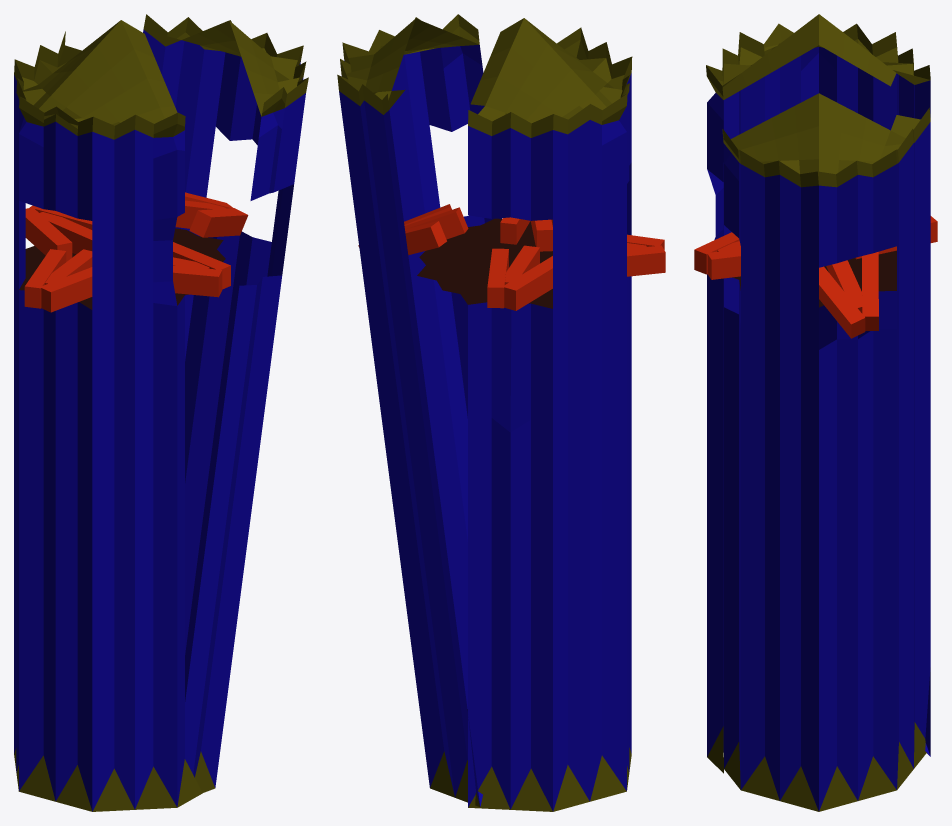
Rendered from ballistictower1d.obj.
The picture shows the model from 3 angles, left to right: view 1: azimuth 30°, elevation 25°; view 2: azimuth 150°, elevation 25°; view 3: azimuth 270°, elevation 25°; orthographic projection.
Parts seen in each view (by area): view 1: Cube, Cube.013, Cube.011, Cube.001, Cube.007, Cube.005, Cube.010, Cube.006, Cube.008, Cube.012, Cube.003; view 2: Cube, Cube.013, Cube.005, Cube.010, Cube.004, Cube.002, Cube.003, Cube.006, Cube.008, Cube.009; view 3: Cube.013, Cube, Cube.001, Cube.002, Cube.008, Cube.003, Cube.007.
Boxes of the visible parts, x1,y1,x2,y2 form: Cube: (14,20,225,811); Cube.013: (143,14,308,792); Cube.011: (41,267,92,312); Cube.001: (189,208,248,237); Cube.007: (173,265,222,297); Cube.005: (25,207,72,261); Cube.010: (24,249,66,308); Cube.006: (39,212,92,254); Cube.008: (173,242,230,289); Cube.012: (45,249,92,284); Cube.003: (175,200,225,228); Cube: (417,18,632,811); Cube.013: (337,14,502,806); Cube.005: (503,256,552,310); Cube.010: (627,245,665,276); Cube.004: (487,248,508,308); Cube.002: (358,221,446,255); Cube.003: (404,207,468,239); Cube.006: (505,245,539,284); Cube.008: (500,217,530,244); Cube.009: (530,219,552,251); Cube.013: (722,93,930,811); Cube: (706,14,930,773); Cube.001: (819,266,865,338); Cube.002: (862,252,878,330); Cube.008: (707,249,740,279); Cube.003: (826,260,862,313); Cube.007: (694,232,739,274).
Size of the model in its own units: 4.79 by 11.55 by 3.38.
